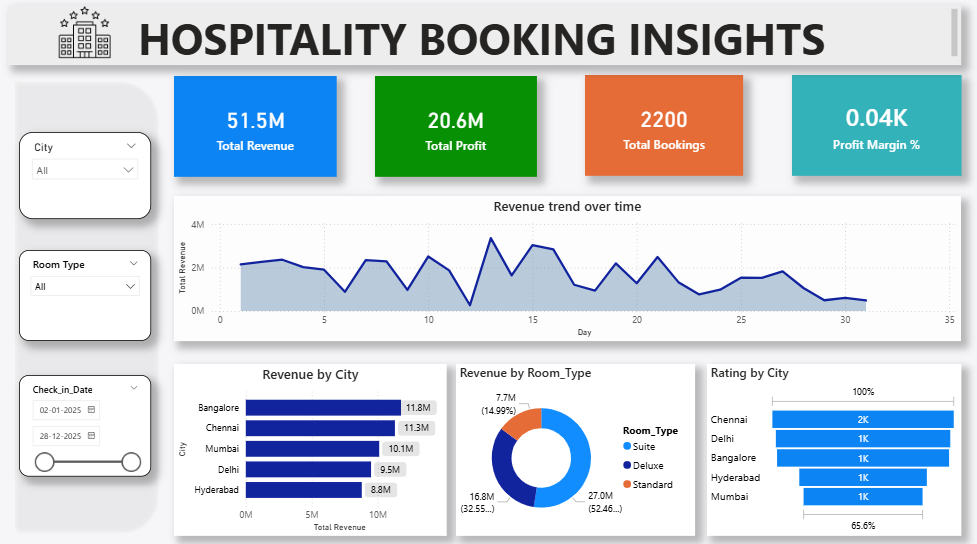

The page's visual inventory and layout, read from the dashboard file:
{"tool":"powerbi","page":{"name":"Page 1","canvas":[1280,720],"ordinal":0},"visuals":[{"type":"card","fields":{"Values":["Hospitality.Total Revenue"]},"box":[227.8,107.3,213.1,132.2],"z":0},{"type":"card","fields":{"Values":["Hospitality.Total Profit"]},"box":[490.8,107.3,211.6,132.2],"z":1},{"type":"card","fields":{"Values":["Hospitality.Total Bookings"]},"box":[765.6,105.8,207.2,132.2],"z":2},{"type":"card","fields":{"Values":["Hospitality.Profit Margin %"]},"box":[1036.6,106.4,221.7,131.6],"z":3},{"type":"lineChart","title":"Revenue trend over time","fields":{"Category":["Hospitality.Check_in_Date.Variation.Date Hierarchy.Year","Hospitality.Check_in_Date.Variation.Date Hierarchy.Quarter","Hospitality.Check_in_Date.Variation.Date Hierarchy.Month","Hospitality.Check_in_Date.Variation.Date Hierarchy.Day"],"Y":["Hospitality.Total Revenue"]},"box":[227.8,264.5,1030,189.6],"z":4},{"type":"clusteredBarChart","title":" Revenue by City","fields":{"Category":["Hospitality.City"],"Y":["Hospitality.Total Revenue"]},"box":[227.8,484.9,357.1,224.8],"z":5},{"type":"donutChart","title":"Revenue by Room_Type","fields":{"Category":["Hospitality.Room_Type"],"Y":["Hospitality.Total Revenue"]},"box":[596.7,485,313.3,225],"z":6},{"type":"shape","box":[10.3,105.8,201.3,603.9],"z":8},{"type":"slicer","fields":{"Values":["Hospitality.Room_Type"]},"box":[25.2,335.3,173.1,119],"z":10},{"type":"slicer","fields":{"Values":["Hospitality.Check_in_Date"]},"box":[25.2,499.4,173.1,133.4],"z":11},{"type":"textbox","box":[10.3,14.7,1247.5,77.9],"z":12},{"type":"slicer","fields":{"Values":["Hospitality.City"]},"box":[25.2,180.3,173.1,113.6],"z":13},{"type":"image","box":[73.3,6.7,75,86.7],"z":18},{"type":"funnel","title":" Rating by City","fields":{"Category":["Hospitality.City"],"Y":["Sum(Hospitality.Rating)"]},"box":[925,485,333,225],"z":19}]}

Visuals, with their boxes in screenshot pixels (x1, y1, x2, y2), scaled from the page's 1280x720 canvas onto the 977x544 screenshot:
card - Hospitality.Total Revenue: [174, 81, 337, 181]
card - Hospitality.Total Profit: [375, 81, 536, 181]
card - Hospitality.Total Bookings: [584, 80, 743, 180]
card - Hospitality.Profit Margin %: [791, 80, 960, 180]
"Revenue trend over time" lineChart: [174, 200, 960, 343]
" Revenue by City" clusteredBarChart: [174, 366, 446, 536]
"Revenue by Room_Type" donutChart: [455, 366, 695, 536]
shape: [8, 80, 162, 536]
slicer - Hospitality.Room_Type: [19, 253, 151, 343]
slicer - Hospitality.Check_in_Date: [19, 377, 151, 478]
textbox: [8, 11, 960, 70]
slicer - Hospitality.City: [19, 136, 151, 222]
image: [56, 5, 113, 71]
" Rating by City" funnel: [706, 366, 960, 536]
